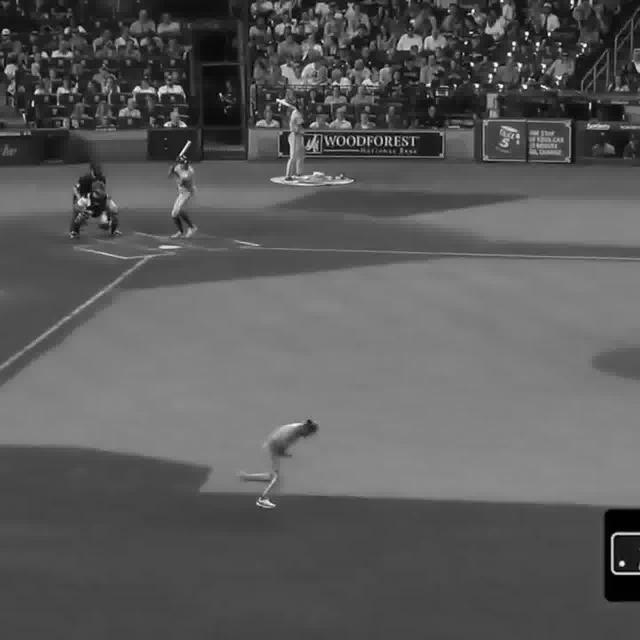base: (158, 245, 180, 248)
bat: (166, 137, 193, 179)
shoe: (258, 498, 278, 509), (185, 225, 199, 238), (237, 473, 249, 487), (170, 230, 183, 240), (106, 229, 124, 235), (68, 234, 80, 240)
